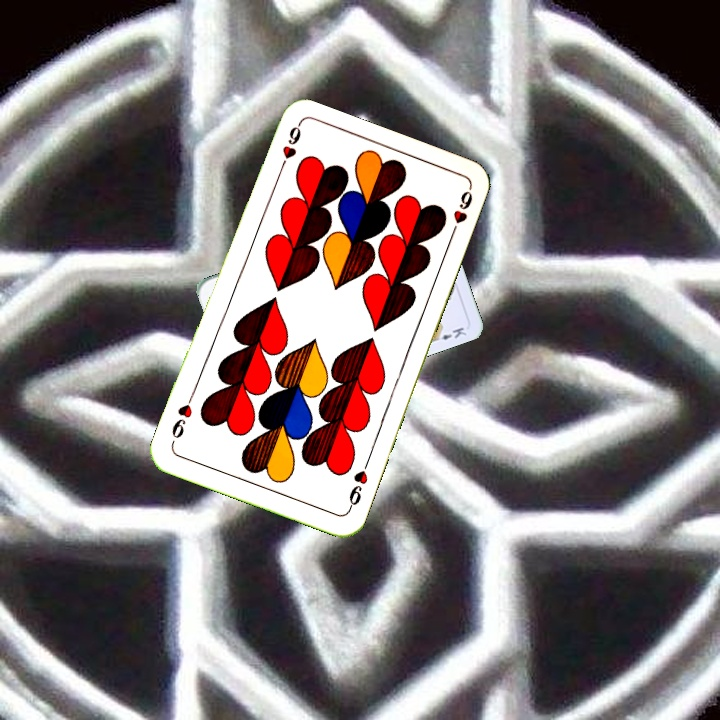H9: (274, 121, 304, 178), (344, 457, 372, 514)
